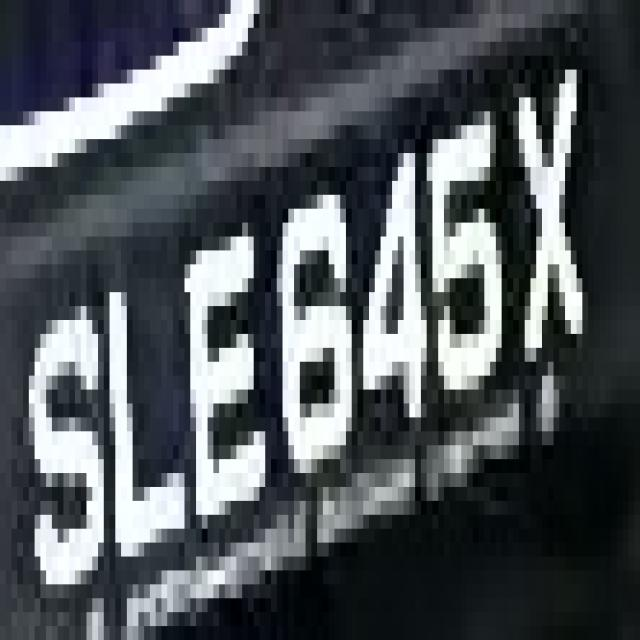4: (346, 98, 438, 459)
5: (421, 111, 507, 432)
6: (271, 153, 357, 501)
E: (173, 181, 265, 542)
L: (104, 250, 190, 570)
S: (11, 278, 110, 612)
X: (501, 42, 594, 390)
